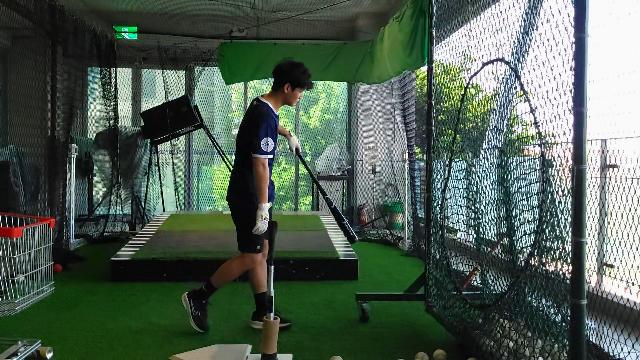bat: (296, 148, 359, 244)
